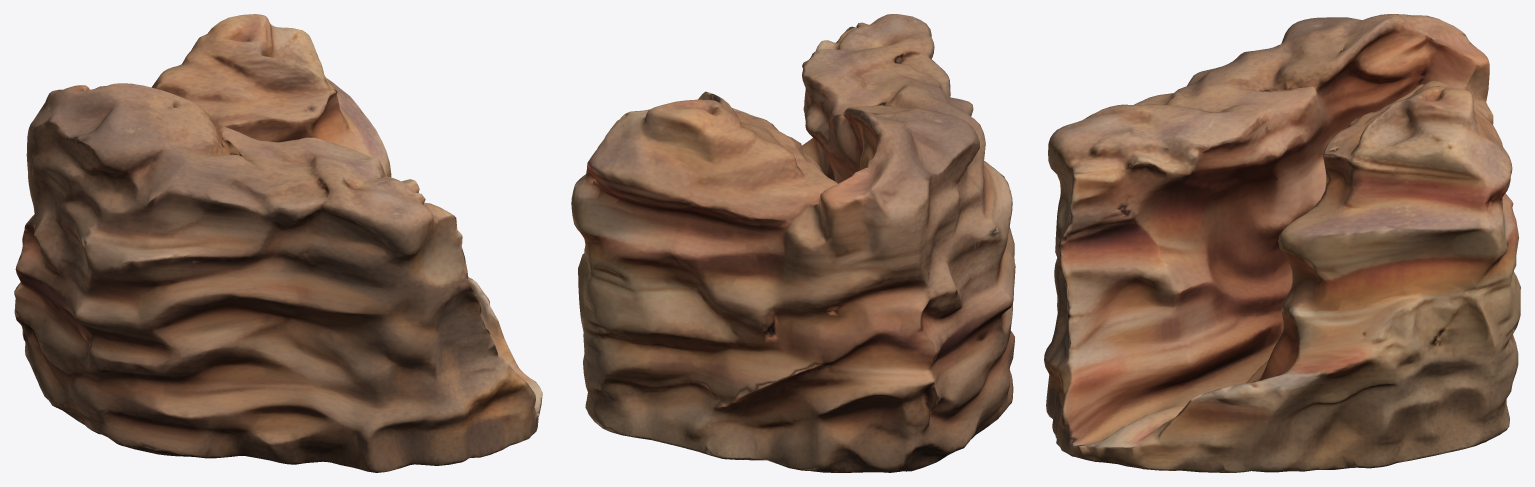
The picture shows the model from 3 angles, left to right: view 1: azimuth 30°, elevation 25°; view 2: azimuth 150°, elevation 25°; view 3: azimuth 270°, elevation 25°; orthographic projection. The views are drawn at different scales.
Parts seen in each view (by area): view 1: geometry_0; view 2: geometry_0; view 3: geometry_0.
Boxes of the visible parts, left/top/right/bottom form: geometry_0: left=14, top=14, right=542, bottom=472; geometry_0: left=571, top=14, right=1015, bottom=472; geometry_0: left=1044, top=14, right=1520, bottom=472.
Bounding box in the file's own units: 26.55 × 20.32 × 28.
1 material, 1 textured.
